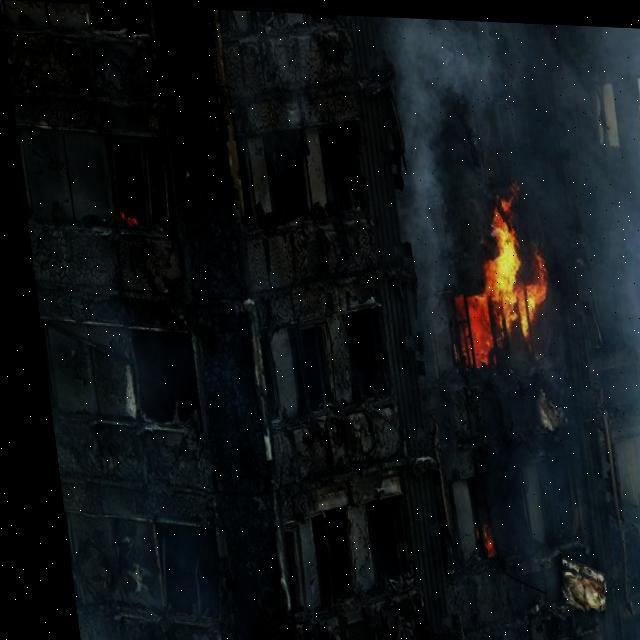Fire: (432, 182, 544, 357), (455, 516, 484, 552), (112, 208, 132, 226)
